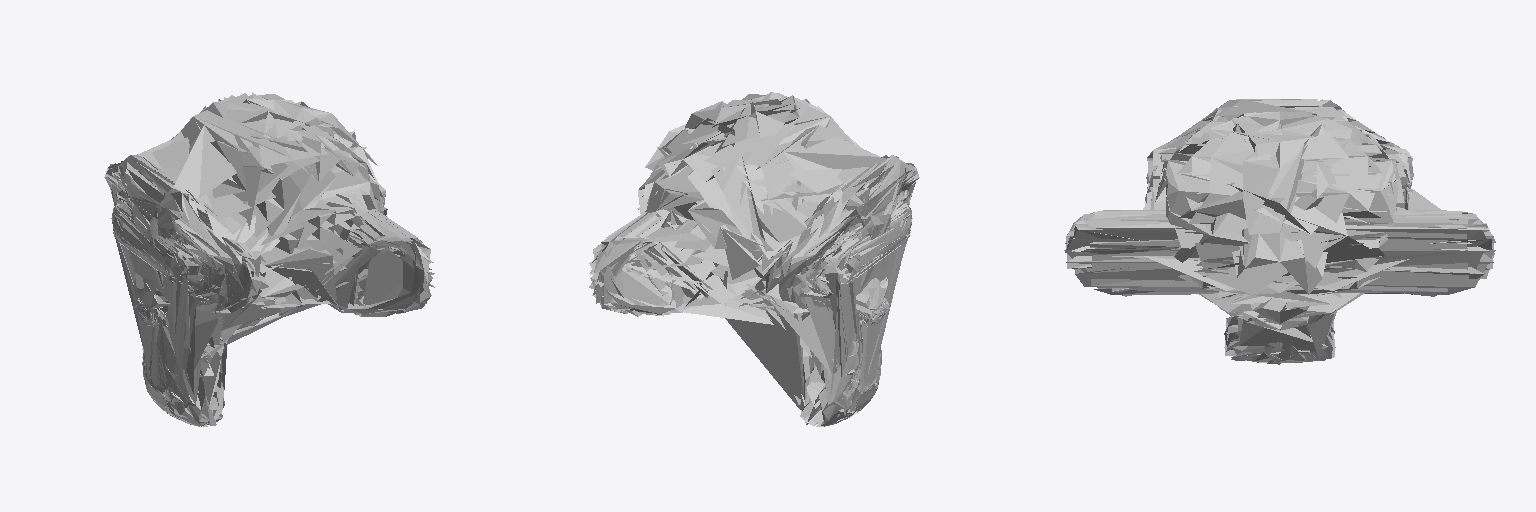
Rendered from highressuzanne.obj.
The picture shows the model from 3 angles: view 1: azimuth 30°, elevation 25°; view 2: azimuth 150°, elevation 25°; view 3: azimuth 270°, elevation 25°; orthographic projection.
Size of the model in its own units: 1.46 by 1.72 by 2.37.